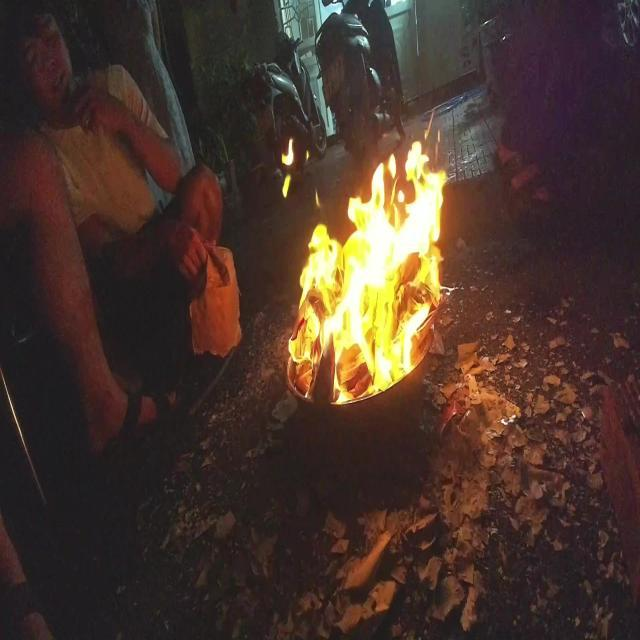Fire: (281, 108, 448, 394)
